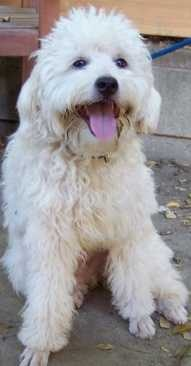Dog: (2, 6, 170, 350)
